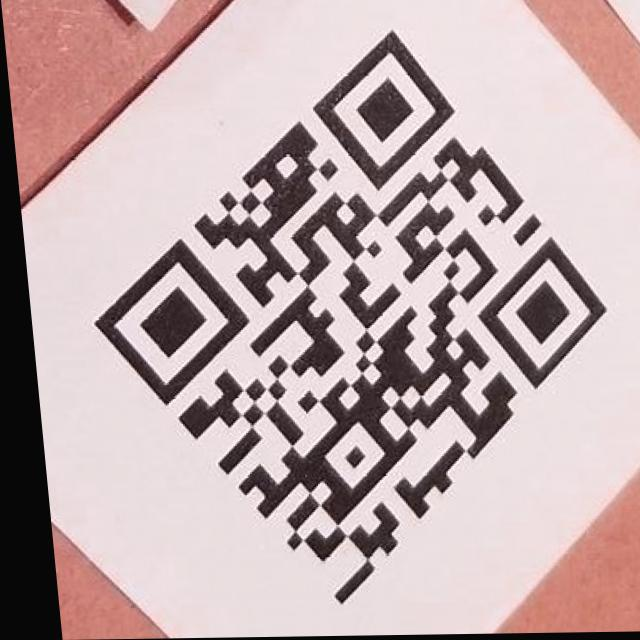QR_CODE: (64, 26, 624, 609)
